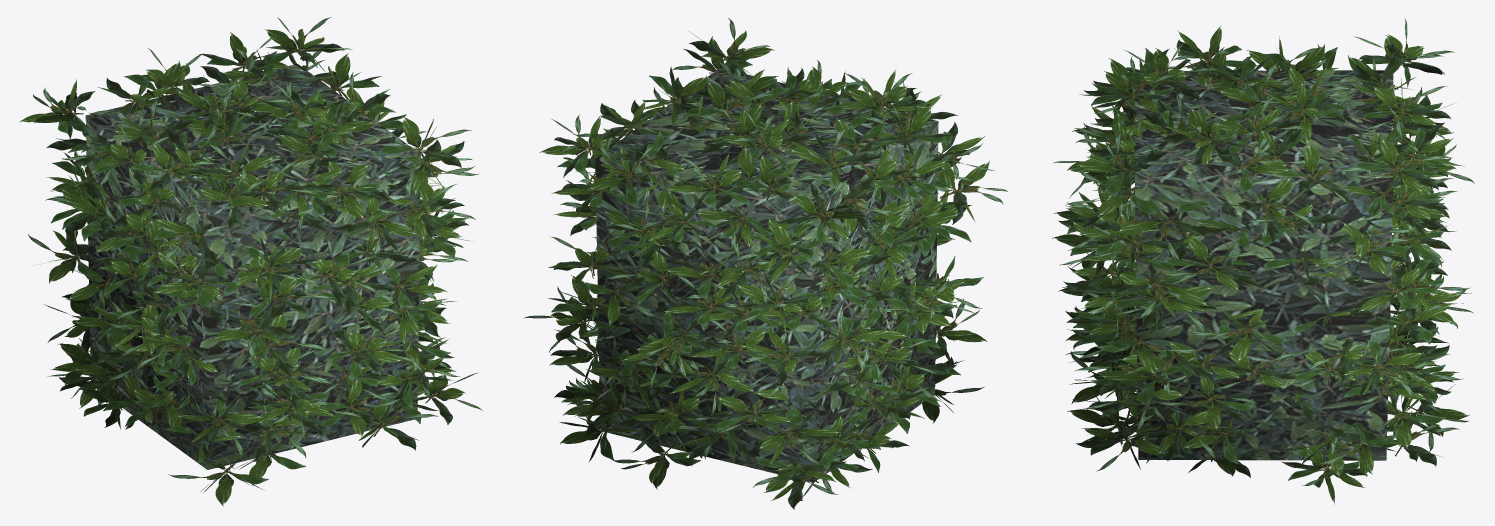
The picture shows the model from 3 angles, left to right: view 1: azimuth 30°, elevation 25°; view 2: azimuth 150°, elevation 25°; view 3: azimuth 270°, elevation 25°; orthographic projection. The views are drawn at different scales.
Parts seen in each view (by area): view 1: leaves, box; view 2: leaves, box; view 3: leaves, box.
Part boxes in pixels (x1,y1,x2,y2): leaves: (19,17,482,506); box: (85,64,420,469); leaves: (523,18,1007,509); box: (595,68,938,482); leaves: (1052,19,1474,504); box: (1134,70,1393,460).
Bounding box in the file's own units: 75.38 × 71.59 × 78.43.
Materials: 2 (2 with a texture image).
